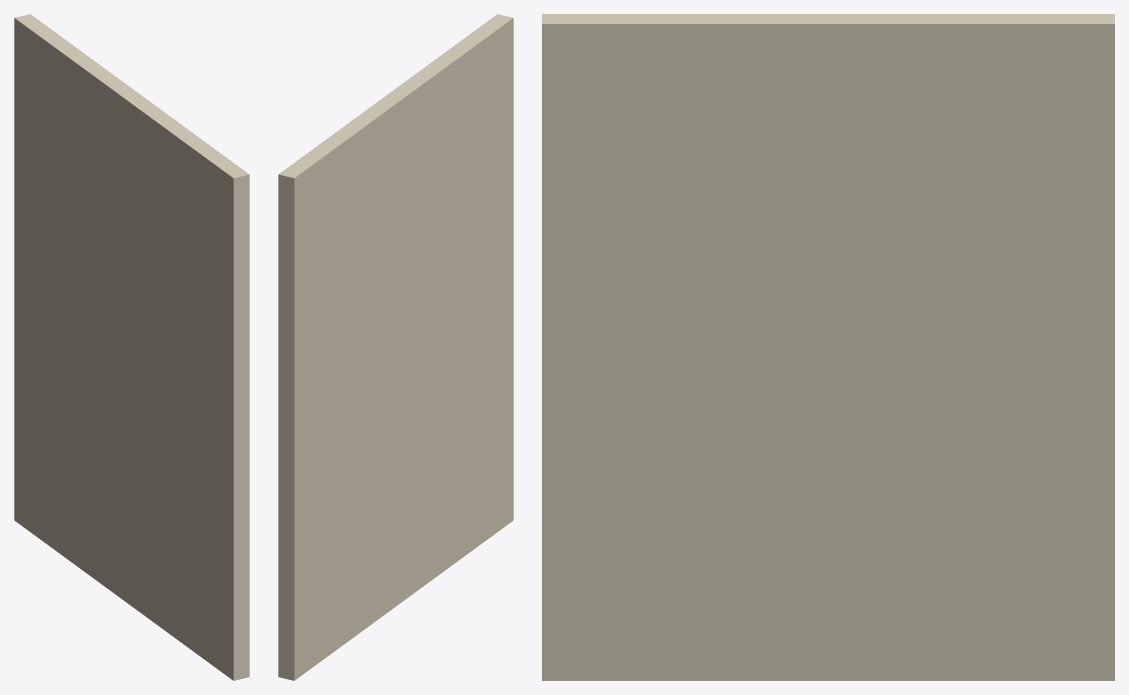
3 views of the same model, side by side, from view 1: azimuth 30°, elevation 25°; view 2: azimuth 150°, elevation 25°; view 3: azimuth 270°, elevation 25° (orthographic). The views are drawn at different scales.
Visible parts, largest first — view 1: A-GF-WALL-009; view 2: A-GF-WALL-009; view 3: A-GF-WALL-009.
Boxes of the visible parts, x1,y1,x2,y2 form: A-GF-WALL-009: (14, 14, 249, 680); A-GF-WALL-009: (278, 14, 513, 680); A-GF-WALL-009: (542, 14, 1114, 680).
Bounding box in the file's own units: 0.09 × 2.72 × 2.15.
